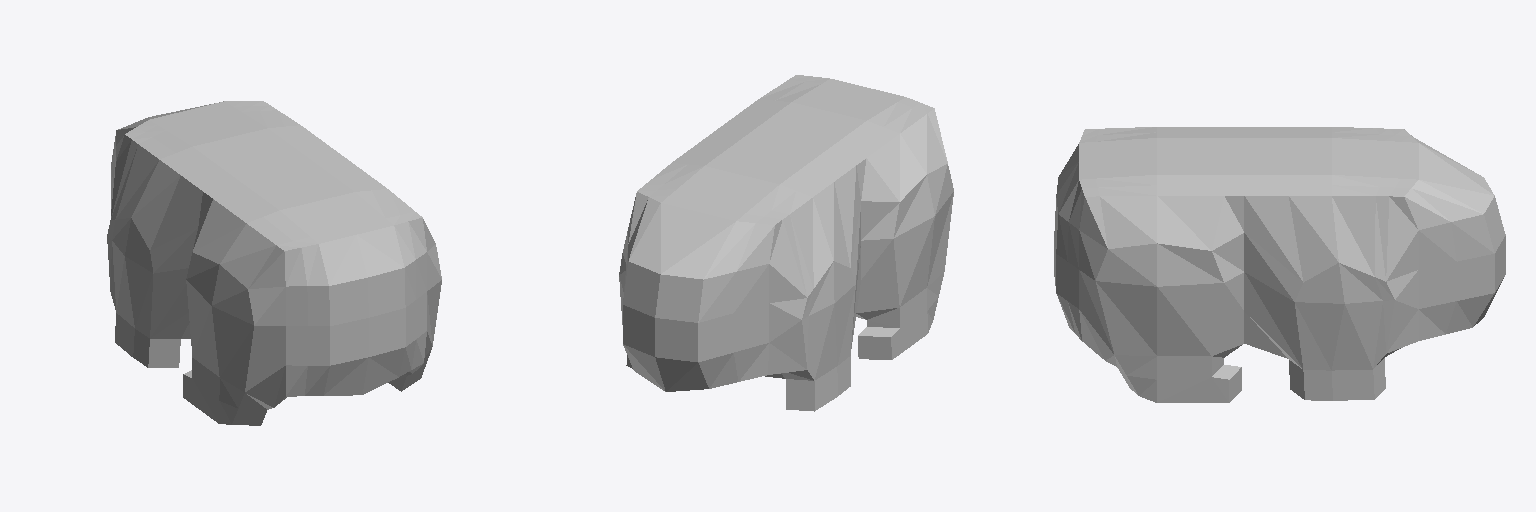
The model's file is scralapus.obj.
3 renders of one model, left to right at view 1: azimuth 30°, elevation 25°; view 2: azimuth 150°, elevation 25°; view 3: azimuth 270°, elevation 25°, orthographic.
Visible parts, largest first — view 1: Scralapus_Cube; view 2: Scralapus_Cube; view 3: Scralapus_Cube.
Part boxes in pixels (x1,y1,x2,y2): Scralapus_Cube: (107,101,441,425); Scralapus_Cube: (619,75,953,411); Scralapus_Cube: (1054,127,1505,402).
Bounding box in the file's own units: 2.8 × 2.53 × 5.18.